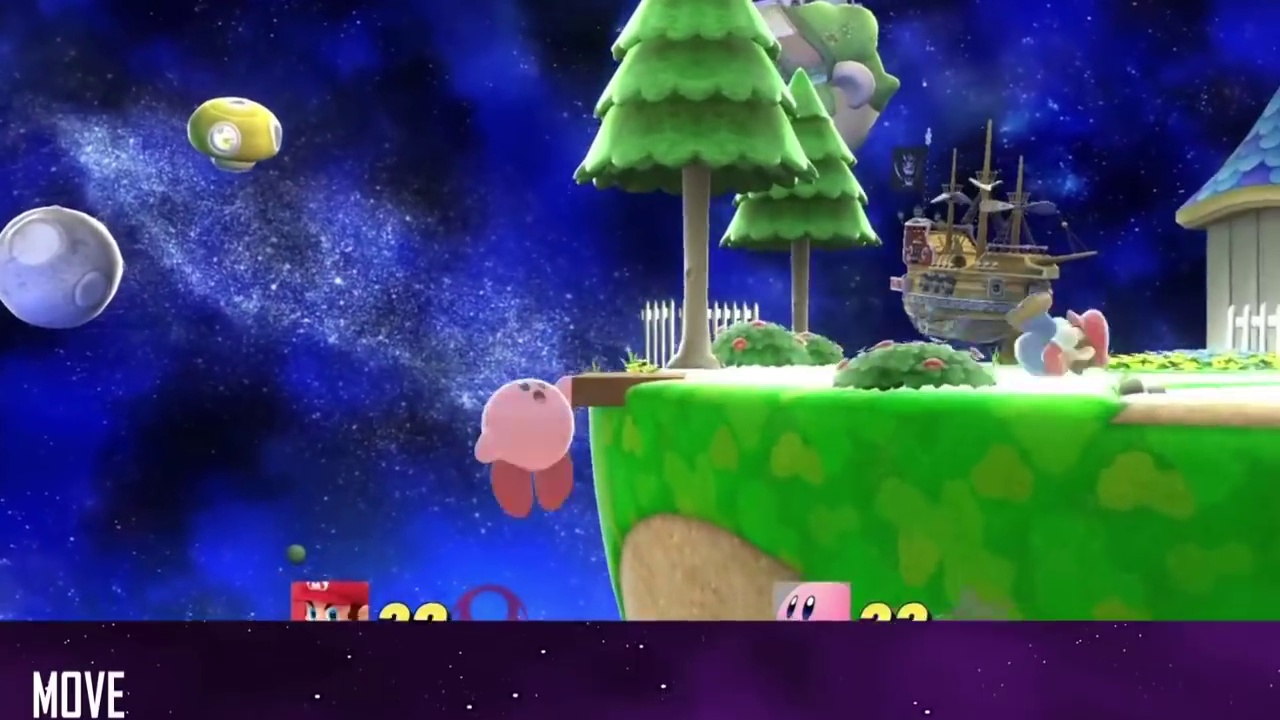Mario: (1004, 290, 1108, 376)
